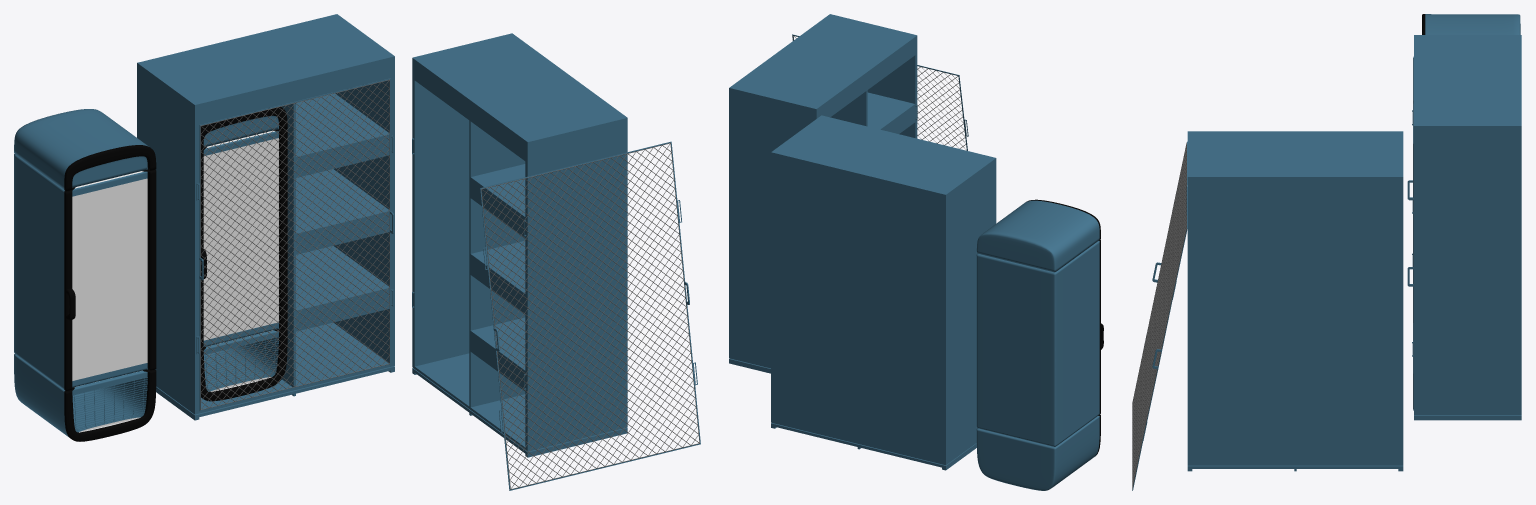
The model's file is uploads_files_4094862_Fridge_and_Cage.obj.
3 renders of one model, left to right at view 1: azimuth 30°, elevation 25°; view 2: azimuth 150°, elevation 25°; view 3: azimuth 270°, elevation 25°, orthographic. The views are drawn at different scales.
Parts seen in each view (by area): view 1: Cage_2, Cage_1, Fridge_2, Fridge_1, Mesh_2, Mesh_1, Mesh_2Border, Fridge_2Mesh, Mesh_1Border, Fridge_1Mesh; view 2: Cage_1, Fridge_2, Cage_2, Mesh_2; view 3: Cage_2, Cage_1, Mesh_2, Fridge_2, Mesh_2Border.
Boxes of the visible parts, box(x1,y1,x2,y2) form: Cage_2: box(412, 33, 627, 457); Cage_1: box(137, 14, 394, 420); Fridge_2: box(14, 109, 156, 441); Fridge_1: box(201, 107, 287, 401); Mesh_2: box(481, 143, 699, 489); Mesh_1: box(200, 79, 389, 410); Mesh_2Border: box(480, 141, 700, 490); Fridge_2Mesh: box(72, 377, 147, 432); Mesh_1Border: box(196, 78, 393, 411); Fridge_1Mesh: box(204, 337, 278, 391); Cage_1: box(771, 115, 996, 470); Fridge_2: box(976, 199, 1103, 490); Cage_2: box(729, 14, 917, 373); Mesh_2: box(793, 36, 965, 149); Cage_2: box(1187, 131, 1403, 471); Cage_1: box(1414, 35, 1521, 420); Mesh_2: box(1132, 143, 1186, 489); Fridge_2: box(1422, 14, 1520, 34); Mesh_2Border: box(1132, 141, 1187, 490).
Bounding box in the file's own units: 3.62 × 2.26 × 2.71.
